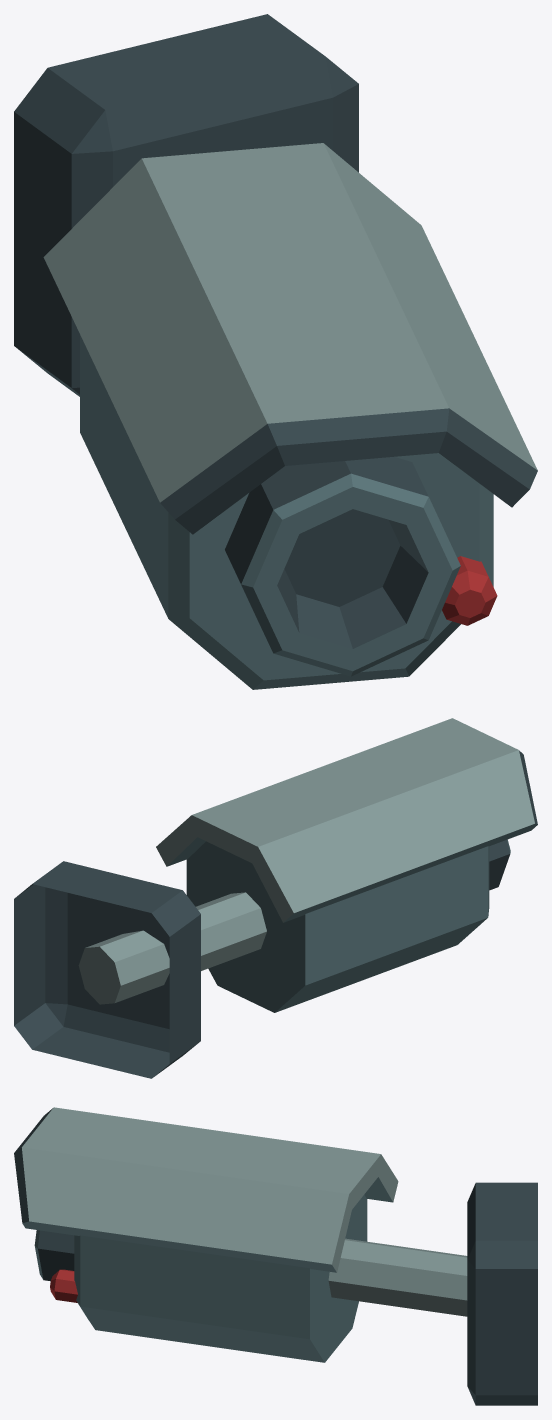
File: Camera.fbx
3 renders of one model, top to bottom at view 1: azimuth 30°, elevation 25°; view 2: azimuth 150°, elevation 25°; view 3: azimuth 270°, elevation 25°, orthographic. The views are drawn at different scales.
Visible parts, largest first — view 1: Camera1, Camera; view 2: Camera1, Camera; view 3: Camera1, Camera.
Boxes of the visible parts, bbox=[...] form: Camera1: bbox=[43, 143, 537, 689]; Camera: bbox=[14, 14, 358, 396]; Camera1: bbox=[78, 718, 537, 1012]; Camera: bbox=[14, 861, 200, 1078]; Camera1: bbox=[14, 1107, 467, 1362]; Camera: bbox=[467, 1182, 537, 1405].
Size of the model in its own units: 31.97 by 18.51 by 48.79.
